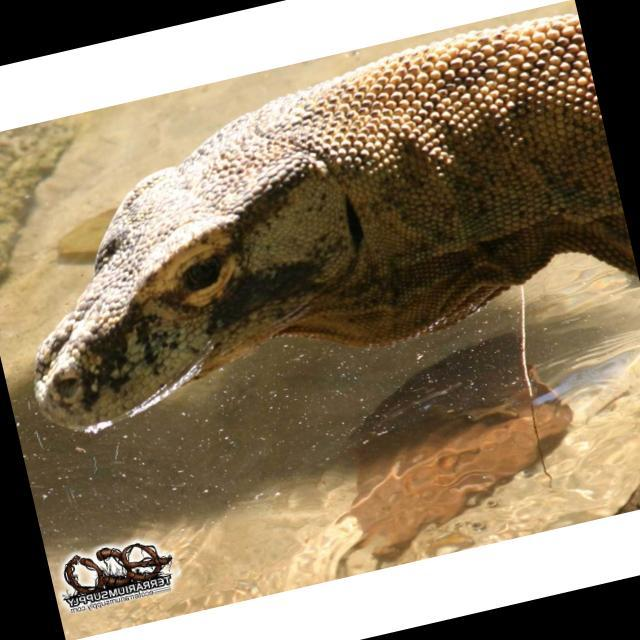KomodoDragon: (0, 8, 640, 442)
